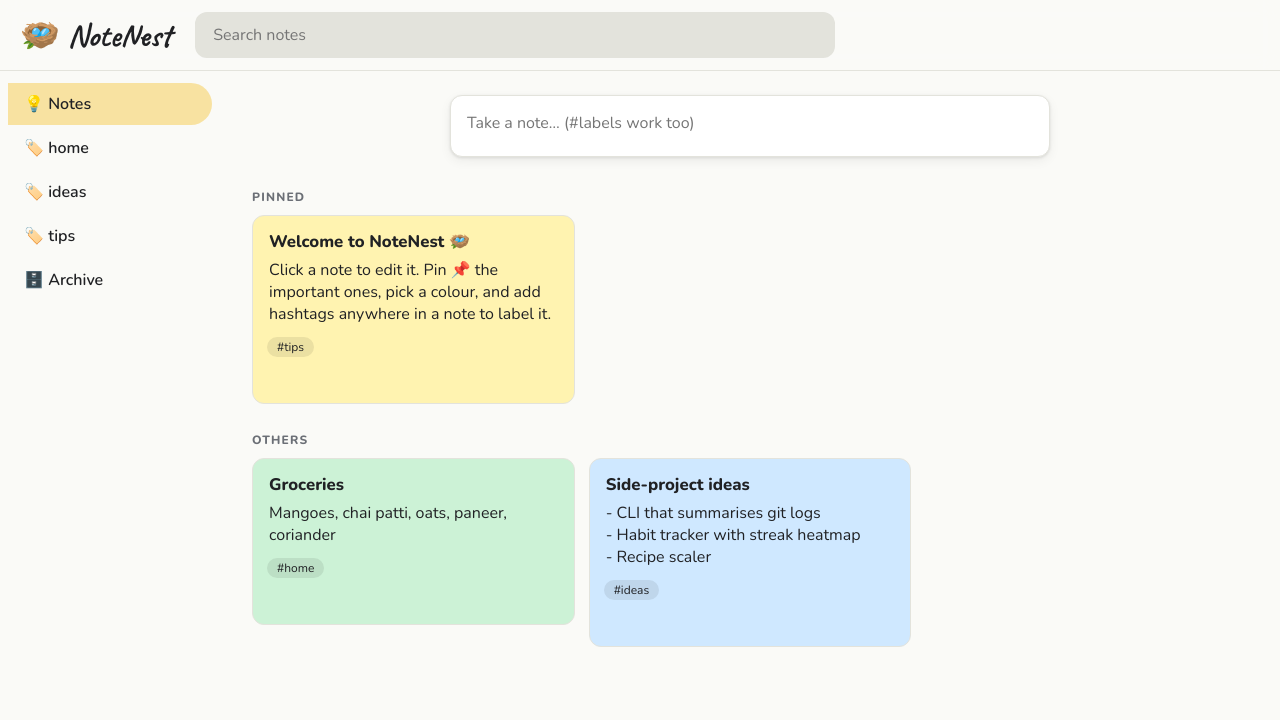
Scenario: <App /> › searches and filters by label
Type "mango" into the search field labelled "Search notes" at (515, 35), box left=195, top=12, right=835, bottom=58
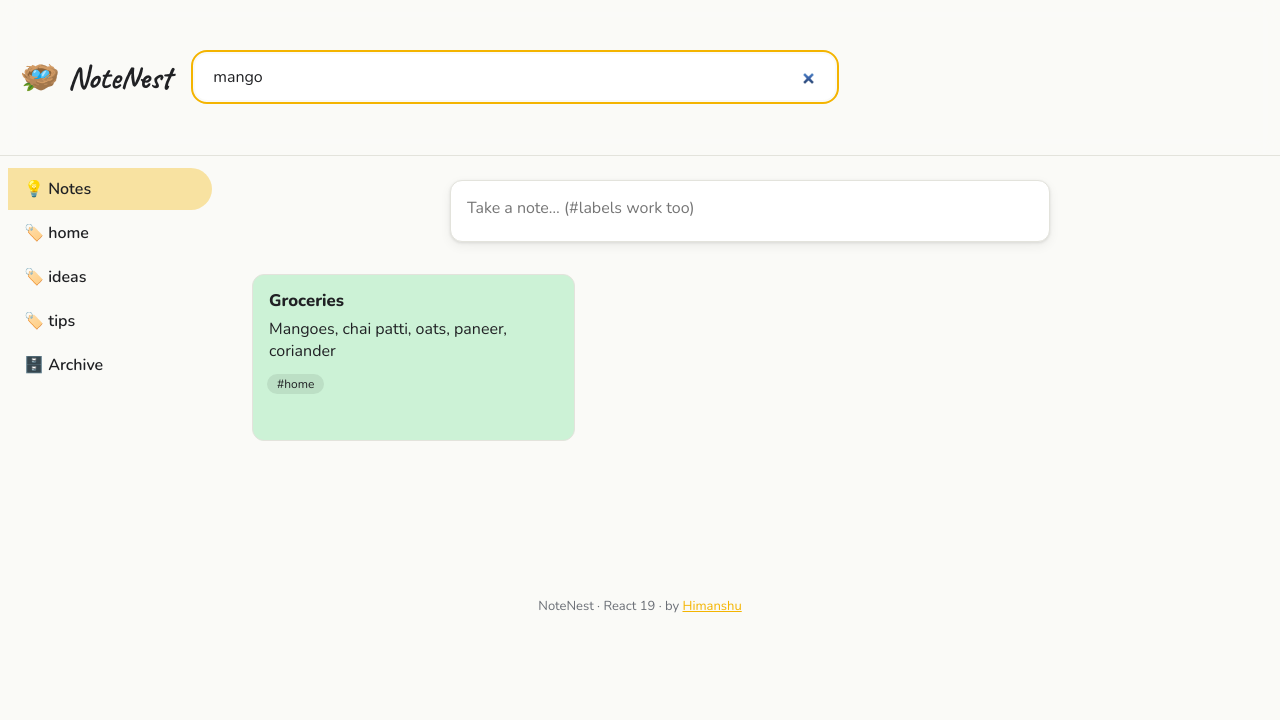
Expected: the heading "Groceries" is shown, left=269, top=289, right=344, bottom=312
Expected: the button "Side-project ideas" is gone
Clear the search field named "Search notes" at (515, 77), box left=195, top=54, right=835, bottom=100
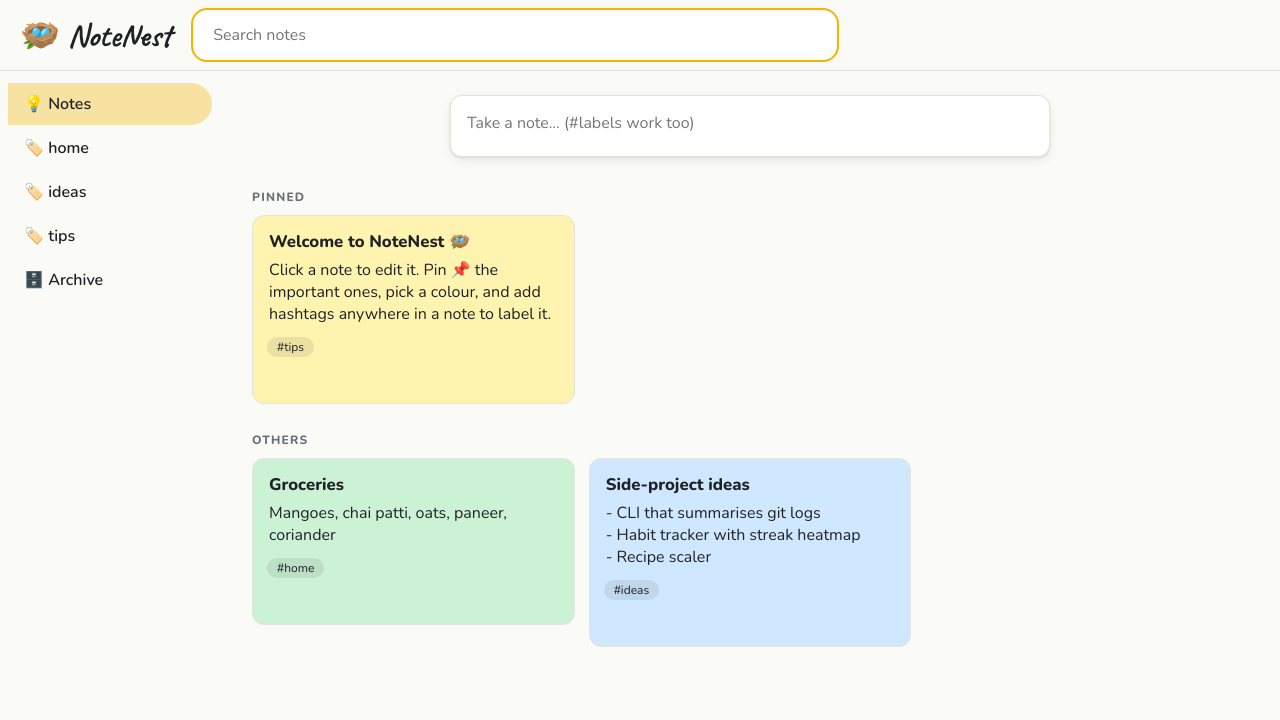
Click the button "🏷️ ideas" at (110, 192), box left=8, top=171, right=212, bottom=213
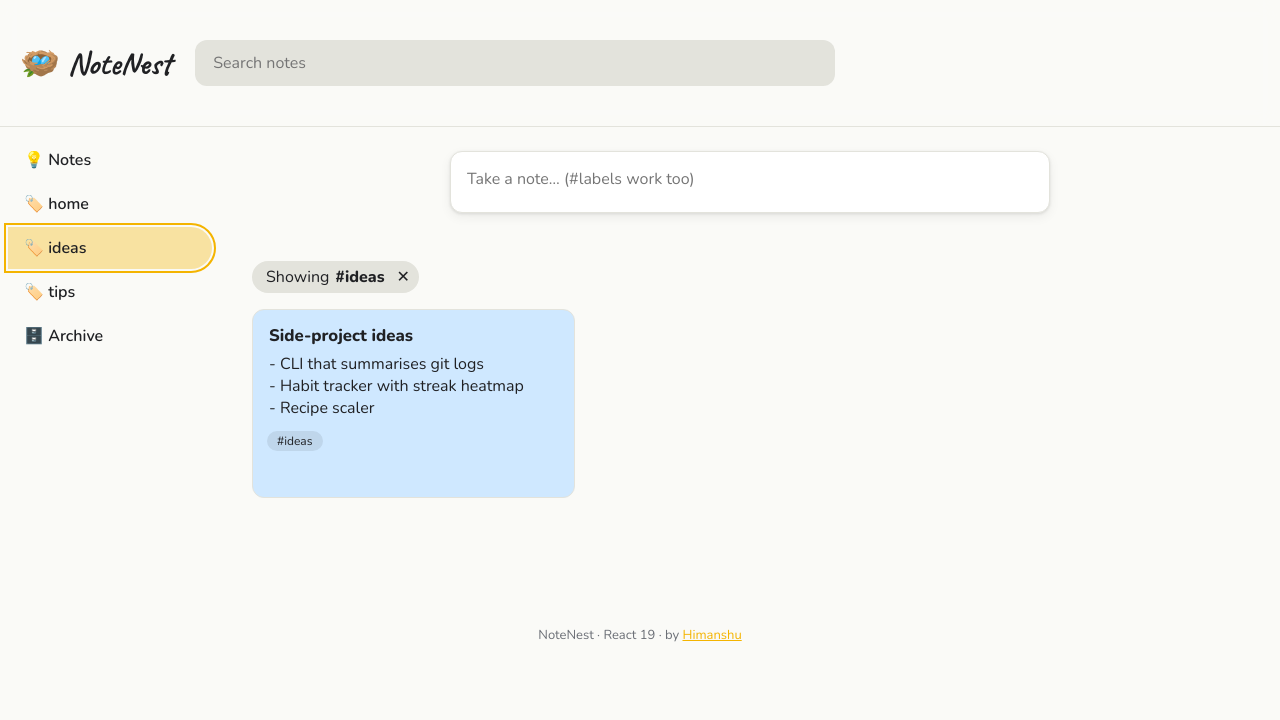
Expected: the text "#ideas" is shown, left=335, top=266, right=385, bottom=288
Expected: the button "Groceries" is gone
